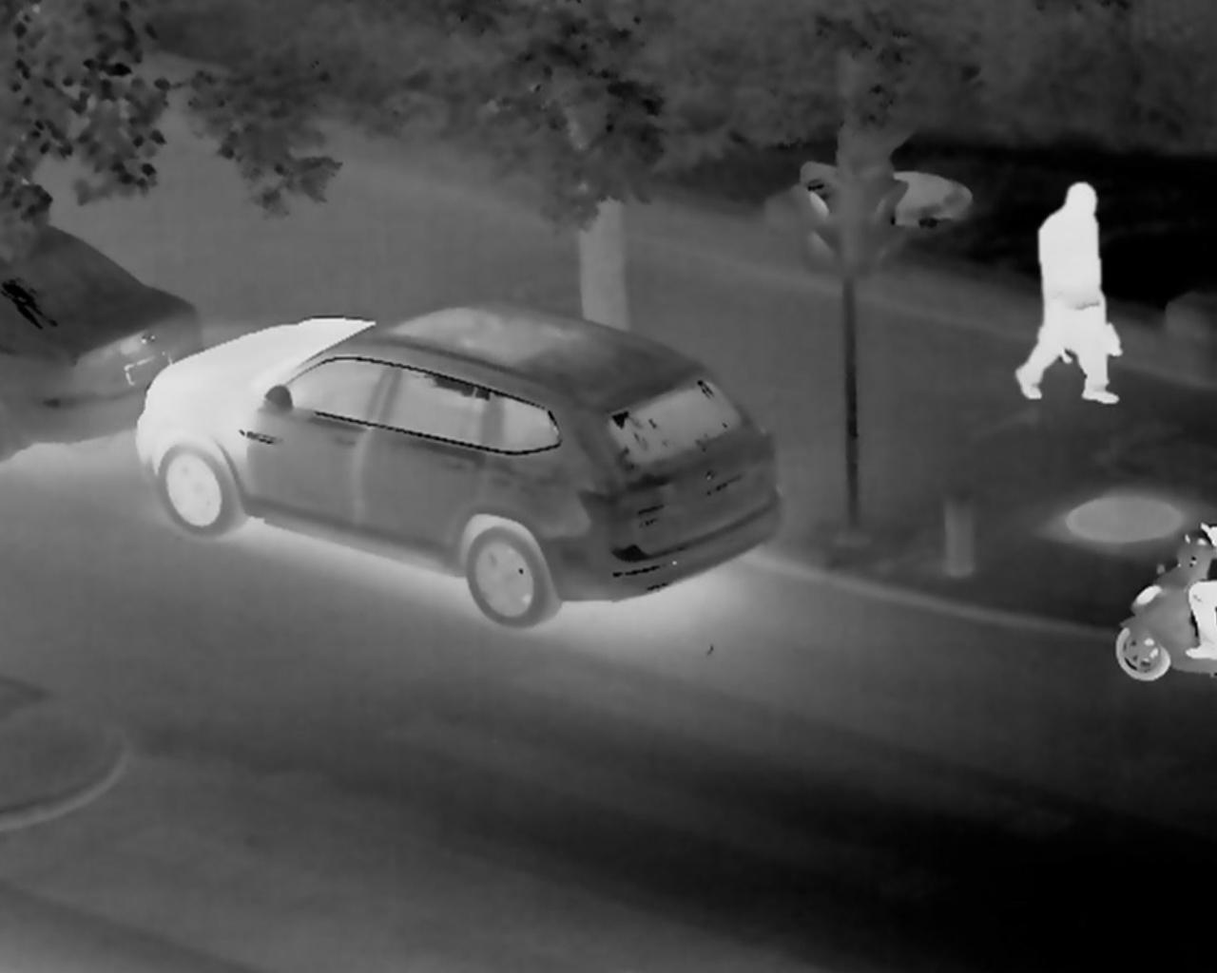person: (1014, 163, 1127, 409)
